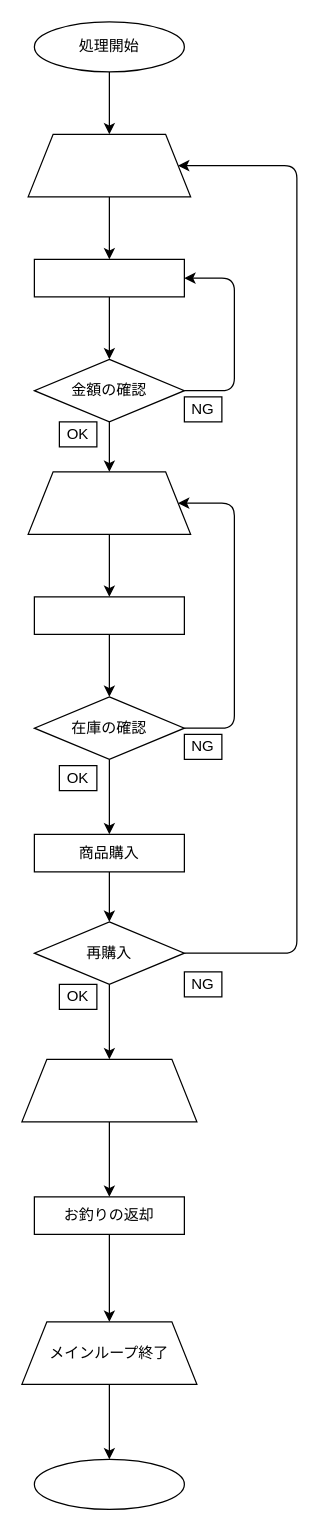
Image size: 329x1531. Some labels were removed from this diagram. Each missing label, with the box of its shape:
お金を投入: (33, 258, 184, 297)
メインループ開始: (27, 133, 191, 197)
処理終了: (33, 1458, 184, 1509)
商品を選択: (33, 596, 184, 634)
商品購入ループ: (27, 471, 191, 534)
商品購入ループ終了: (21, 1058, 197, 1122)
